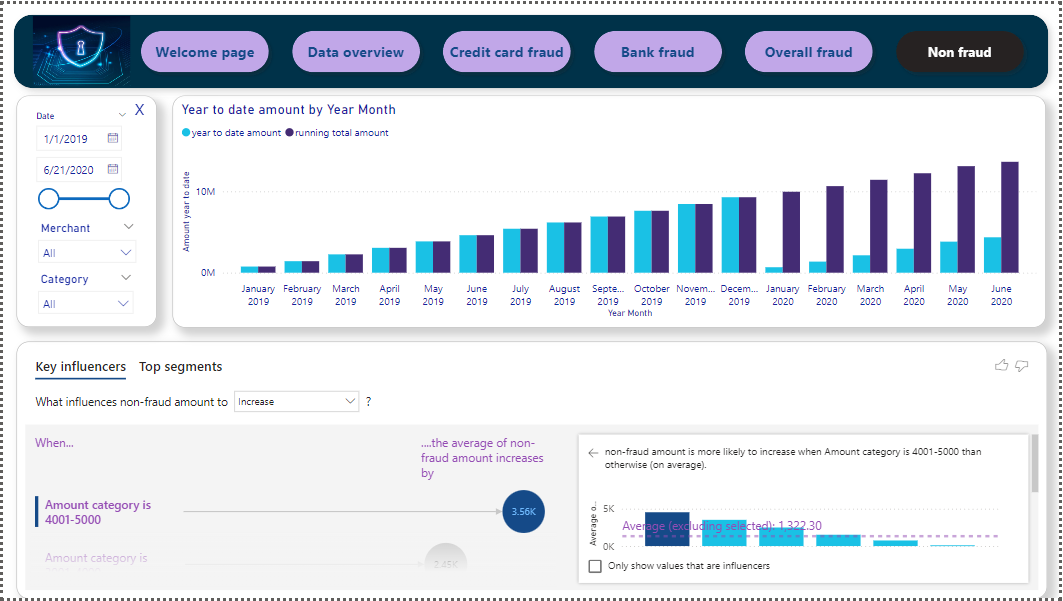

What the dashboard file says about the page in this screenshot:
{"tool":"powerbi","page":{"name":"Non fraud","canvas":[1280,720],"ordinal":5},"visuals":[{"type":"actionButton","box":[0,0,1280,115],"z":0,"group":"g2"},{"type":"clusteredColumnChart","title":"Year to date amount by Year Month","fields":{"Category":["Calendar.Year Month"],"Y":["fraud_dwh f_transaction.amount ytd","fraud_dwh f_transaction.running total amount"]},"box":[205.7,111.3,1058.5,281.1],"z":0},{"type":"image","box":[30,9,128,95],"z":1000,"group":"g2"},{"type":"group","id":"g1","title":"Group 2","box":[15.8,103,174.1,288.2],"z":1000},{"type":"pageNavigator","box":[158.3,23.3,1090,68.3],"z":1500,"group":"g2"},{"type":"actionButton","box":[15.8,110.5,170.2,280.7],"z":2000,"group":"g1"},{"type":"keyDriversVisual","fields":{"ExplainBy":["fraud_dwh d_job.job_name","fraud_dwh f_transaction.age_category","fraud_dwh f_transaction.amount_category","fraud_dwh d_merchant.merchant_name"],"Target":["fraud_dwh f_transaction.amount of non-fraud"]},"box":[15.8,408.8,1249.1,312.3],"z":2000},{"type":"group","id":"g2","title":"Group 1","box":[0,0,1280,115],"z":3000},{"type":"slicer","fields":{"Values":["Calendar.Date"]},"box":[26.7,123.6,135.1,129.8],"z":3000,"group":"g1"},{"type":"slicer","fields":{"Values":["fraud_dwh d_category.category_name"]},"box":[33,320,135.3,55.6],"z":5000,"group":"g1"},{"type":"slicer","fields":{"Values":["fraud_dwh d_merchant.merchant_name"]},"box":[33,257,138.6,59.6],"z":7000,"group":"g1"},{"type":"actionButton","box":[139,103,50.9,47.3],"z":7500,"group":"g1"}]}

Visuals, with their boxes in screenshot pixels (x1, y1, x2, y2), scaled from the page's 1280x720 canvas onto the 1063x601 screenshot:
actionButton: {"x1": 0, "y1": 0, "x2": 1062, "y2": 96}
"Year to date amount by Year Month" clusteredColumnChart: {"x1": 171, "y1": 93, "x2": 1050, "y2": 328}
image: {"x1": 25, "y1": 8, "x2": 131, "y2": 87}
"Group 2" group: {"x1": 13, "y1": 86, "x2": 158, "y2": 327}
pageNavigator: {"x1": 131, "y1": 19, "x2": 1037, "y2": 76}
actionButton: {"x1": 13, "y1": 92, "x2": 154, "y2": 327}
keyDriversVisual - fraud_dwh d_job.job_name x fraud_dwh f_transaction.age_category: {"x1": 13, "y1": 341, "x2": 1050, "y2": 600}
"Group 1" group: {"x1": 0, "y1": 0, "x2": 1062, "y2": 96}
slicer - Calendar.Date: {"x1": 22, "y1": 103, "x2": 134, "y2": 212}
slicer - fraud_dwh d_category.category_name: {"x1": 27, "y1": 267, "x2": 140, "y2": 314}
slicer - fraud_dwh d_merchant.merchant_name: {"x1": 27, "y1": 215, "x2": 143, "y2": 264}
actionButton: {"x1": 115, "y1": 86, "x2": 158, "y2": 125}
